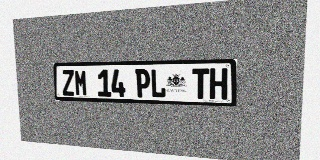1: (97, 69, 111, 97)
4: (111, 69, 125, 97)
H: (209, 68, 227, 100)
L: (150, 69, 166, 98)
M: (74, 70, 88, 96)
P: (135, 69, 150, 98)
T: (192, 68, 209, 99)
Z: (61, 70, 75, 96)
